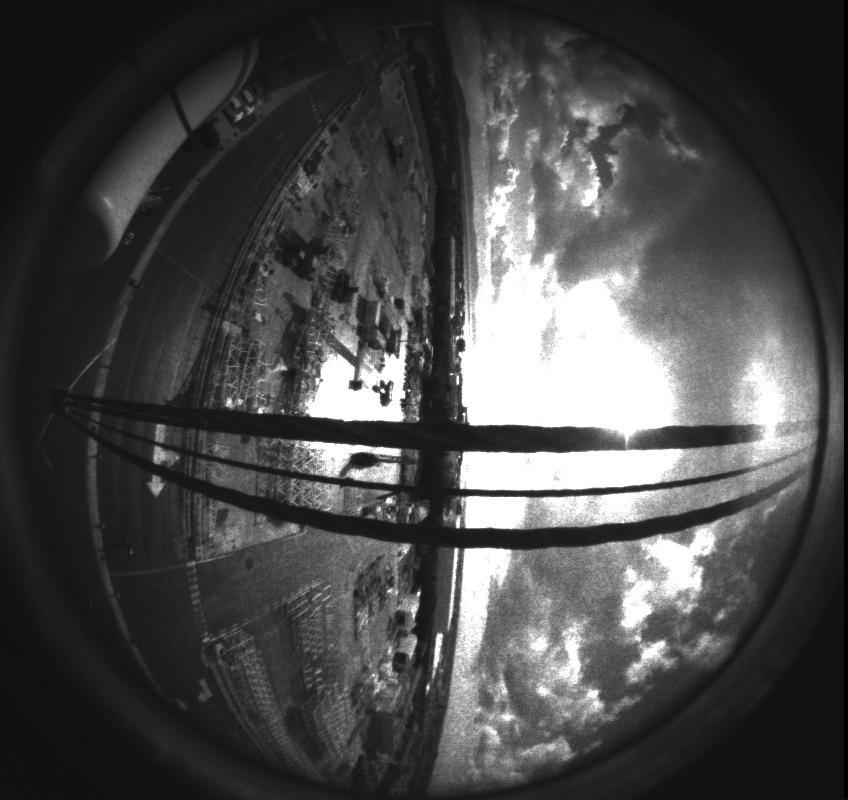rope: (10, 370, 846, 560)
